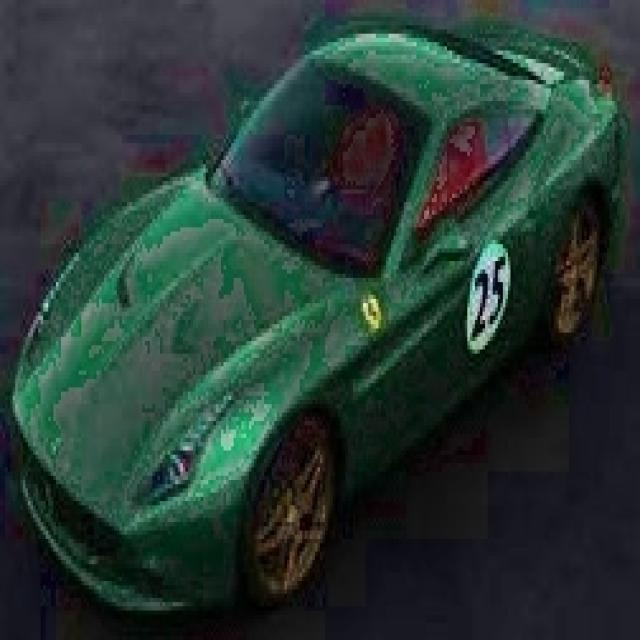green: (5, 13, 627, 623)
